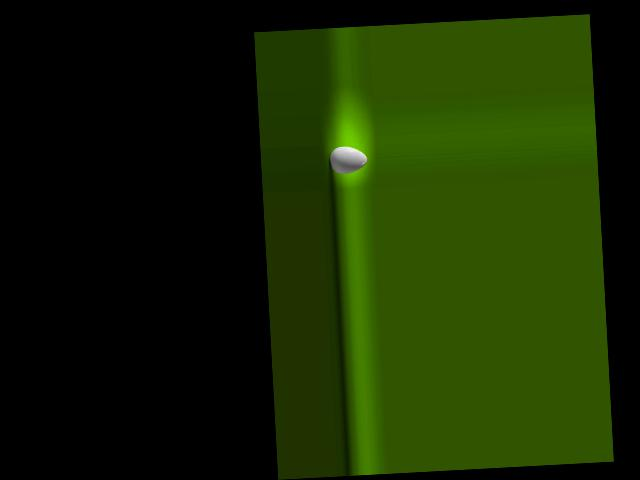egg: (329, 145, 368, 174)
